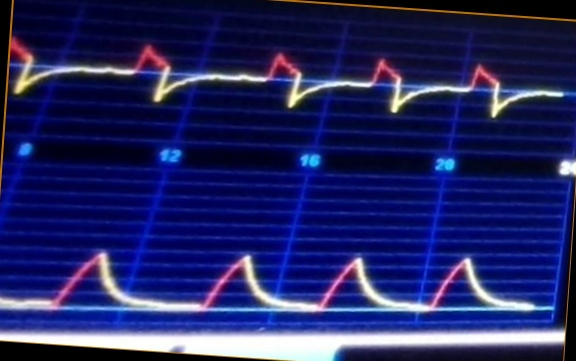Accumulation Flow: (11, 23, 559, 135)
Volume: (2, 232, 542, 325)
